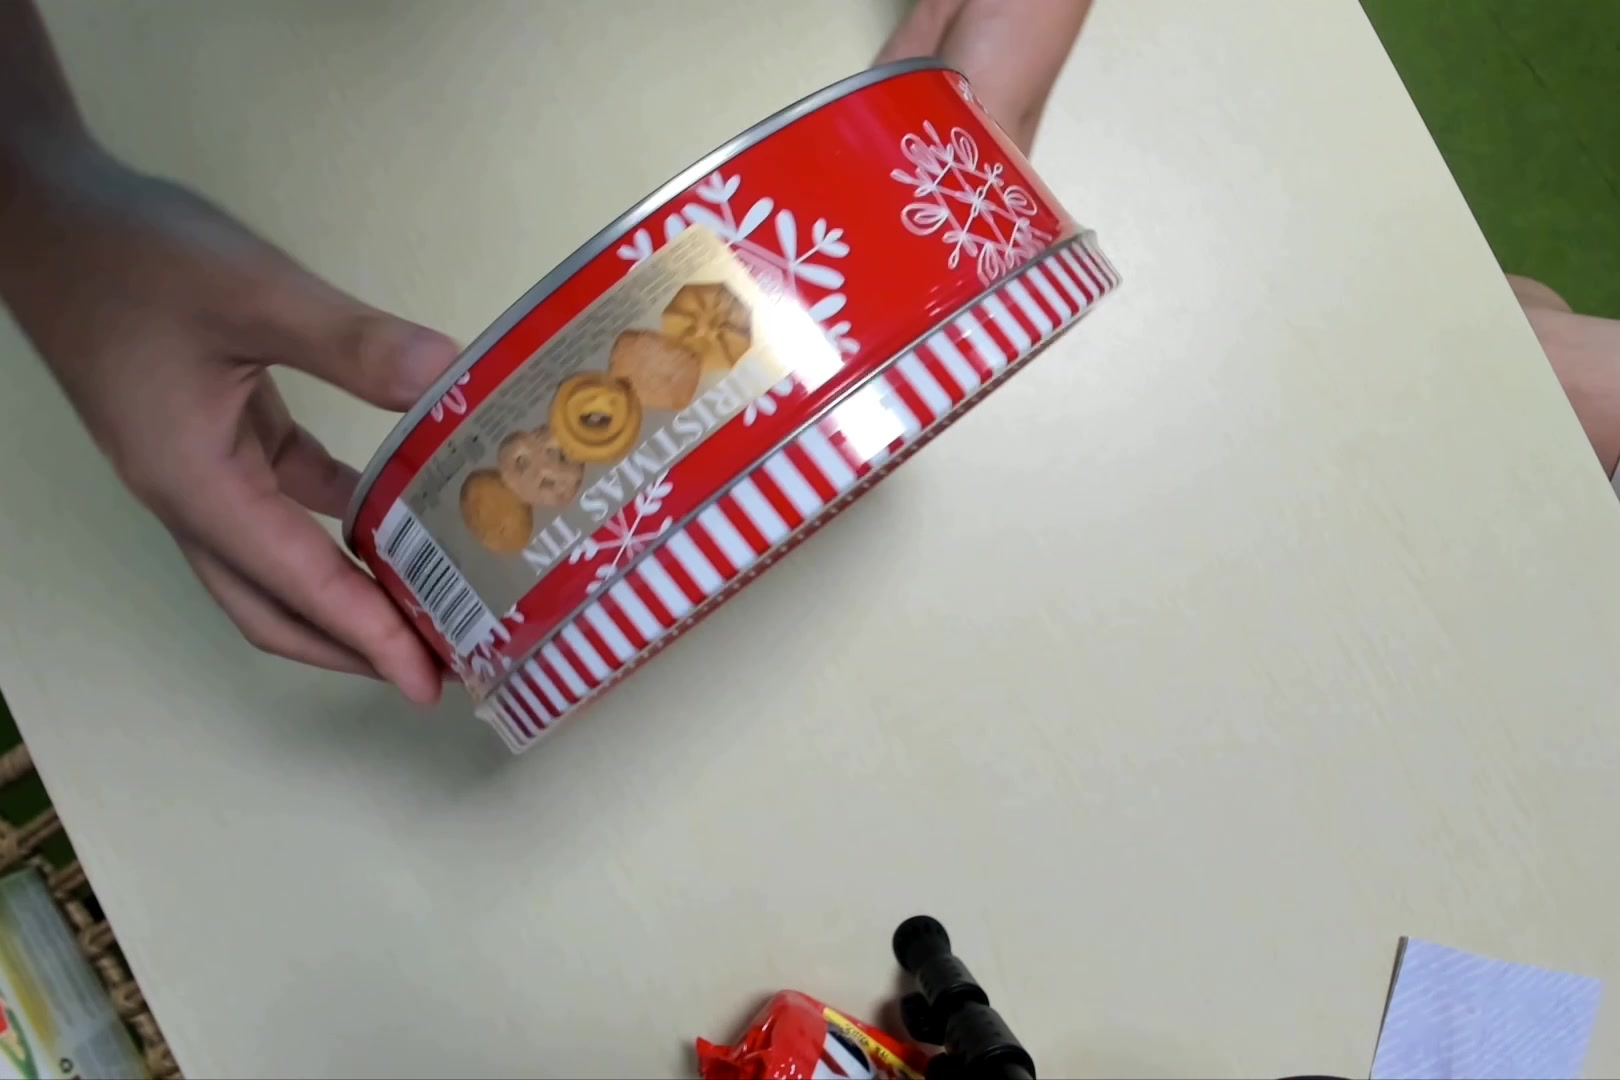BiscuitsCrackersCookies_400-499g_NonHalal_NonHealthy: (344, 41, 1126, 761)
